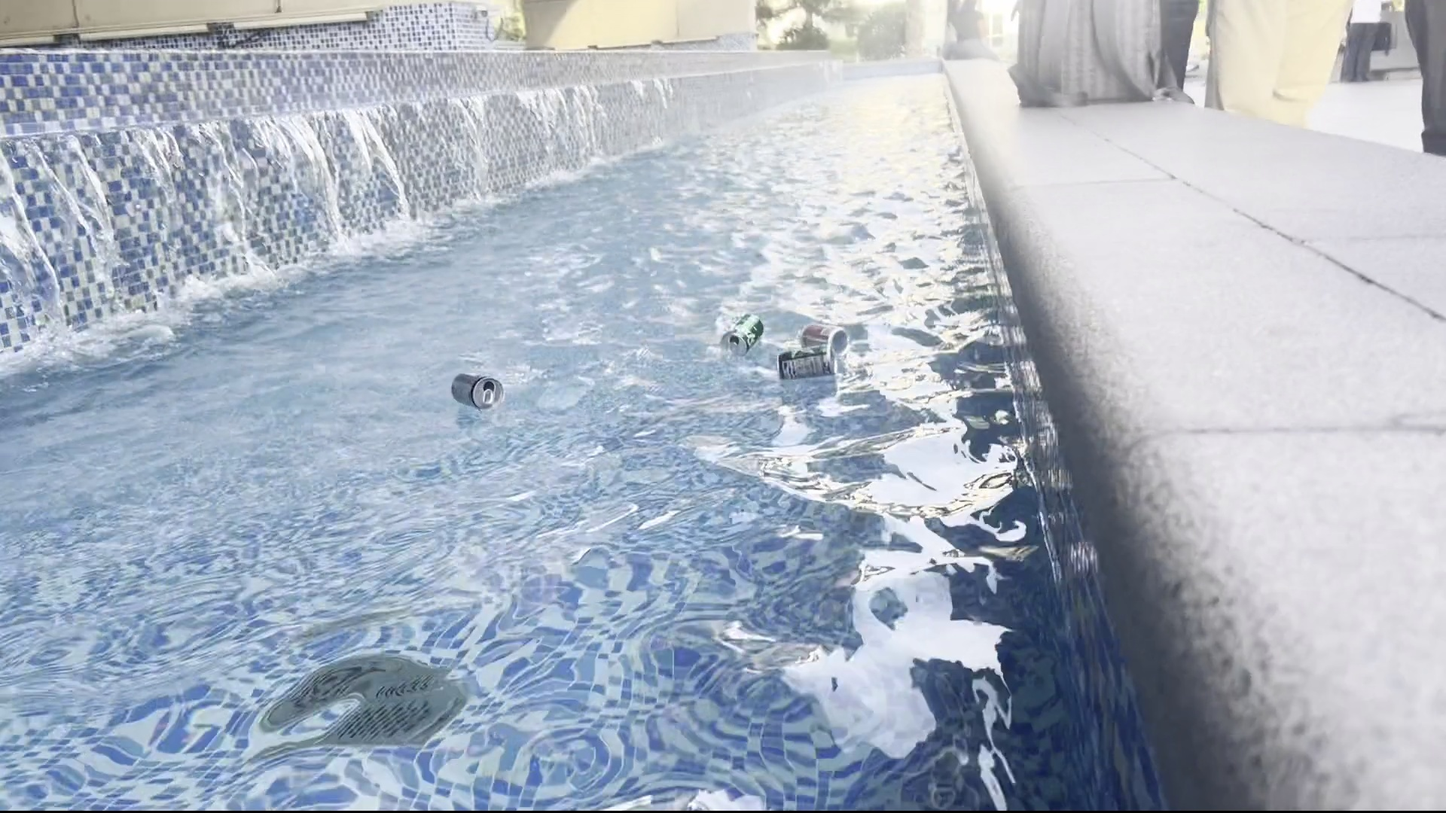debris: (444, 370, 508, 413), (771, 343, 841, 381), (793, 315, 851, 357), (721, 309, 767, 360)
